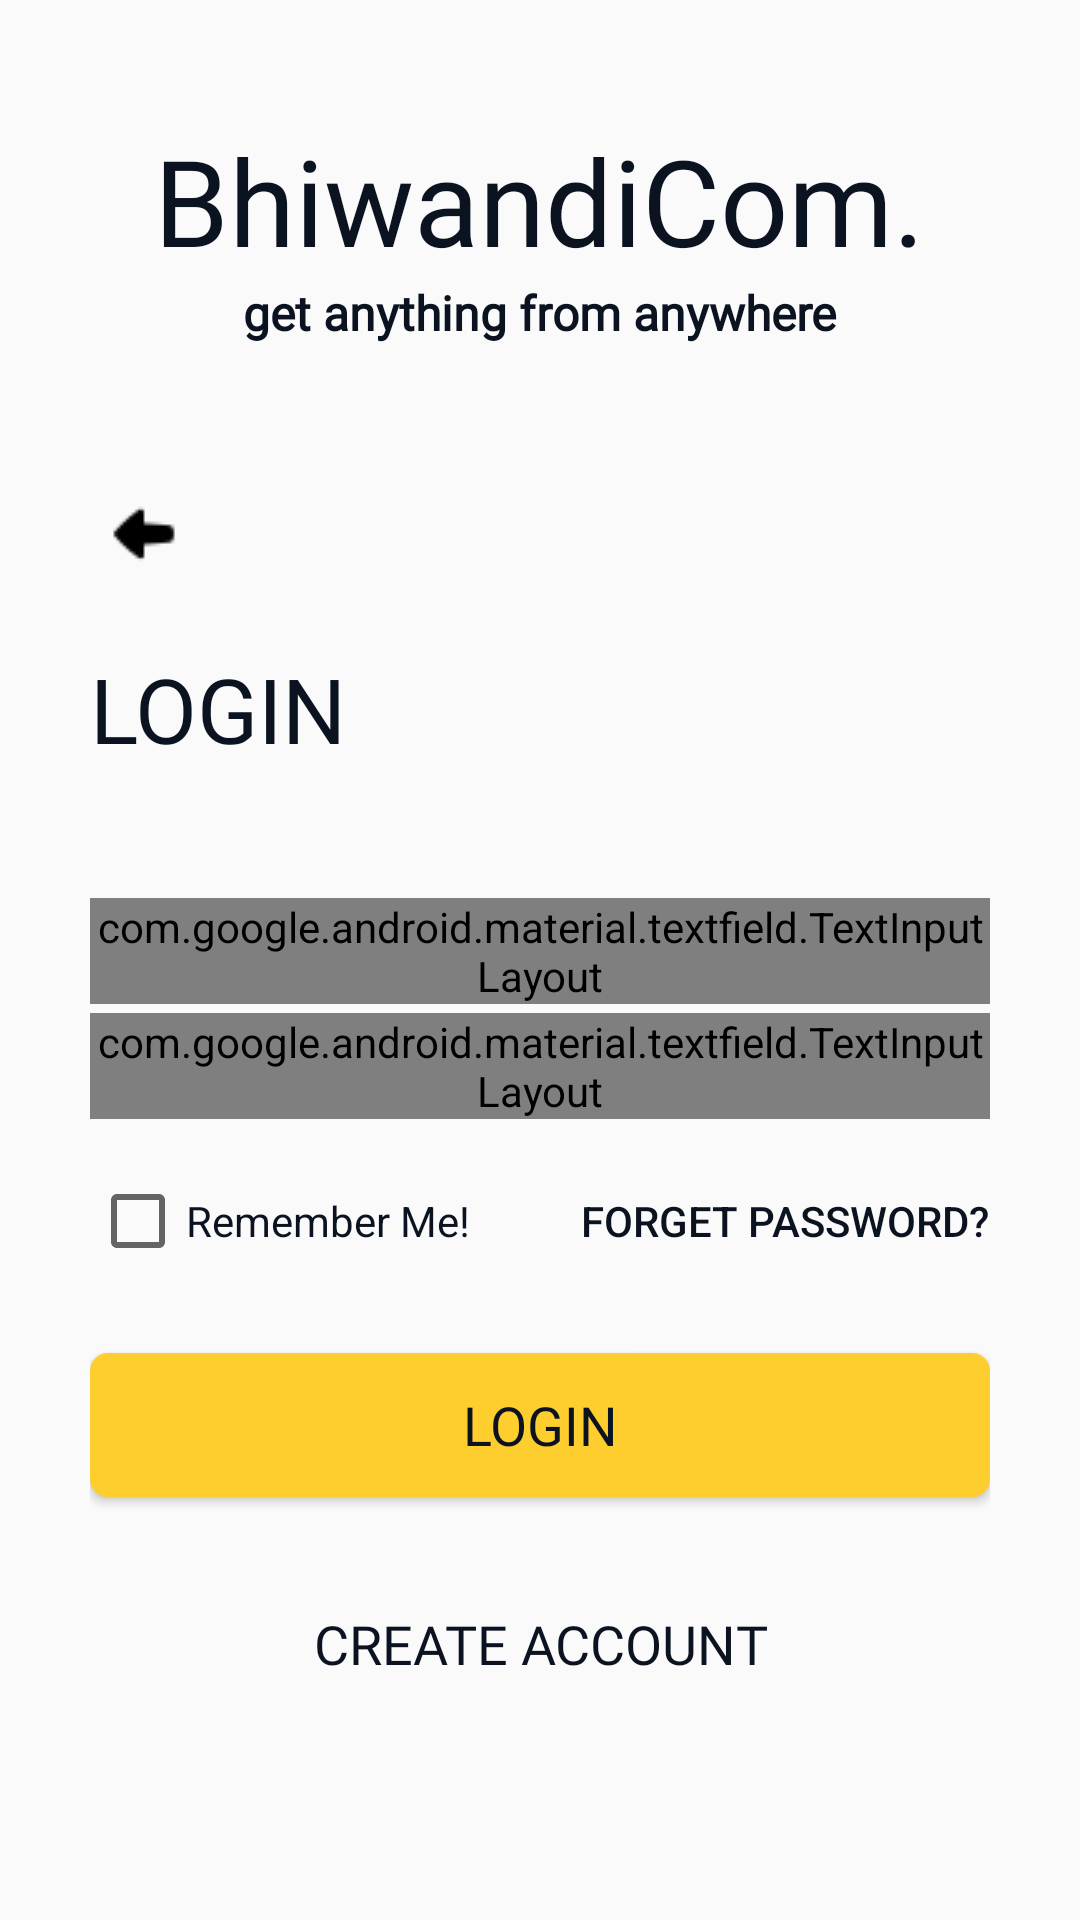

Where to tap for icons on this 1080 x 1920 app screen, as (x,y):
back: (144,533)
